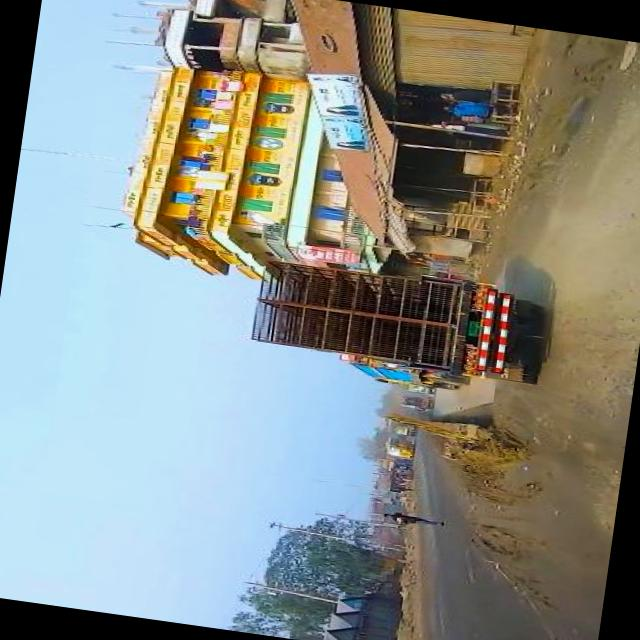bus: (380, 434, 412, 455)
truck: (251, 254, 543, 382), (342, 355, 468, 392), (400, 394, 431, 408), (390, 423, 412, 435)
